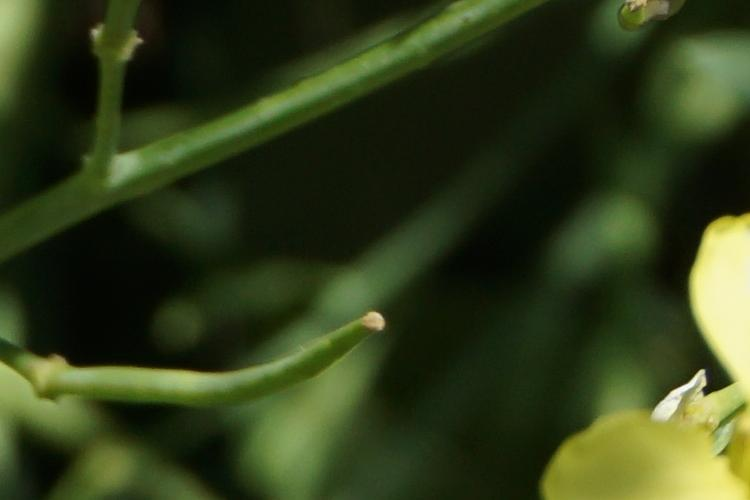pod: (68, 284, 430, 427)
